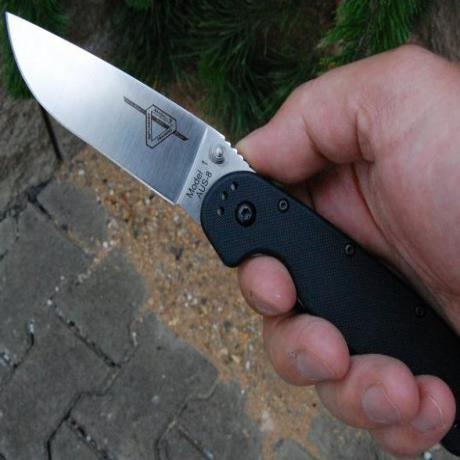1: (220, 45, 460, 460)
weapon: (6, 10, 262, 258)
